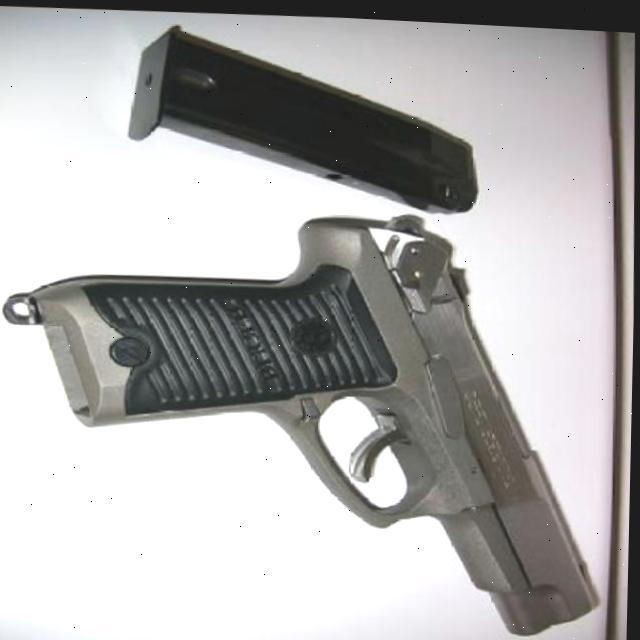gun: (29, 194, 610, 640)
